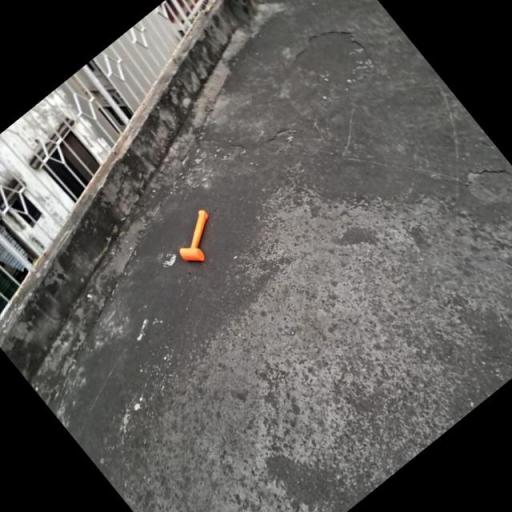mallet: (166, 208, 230, 270)
